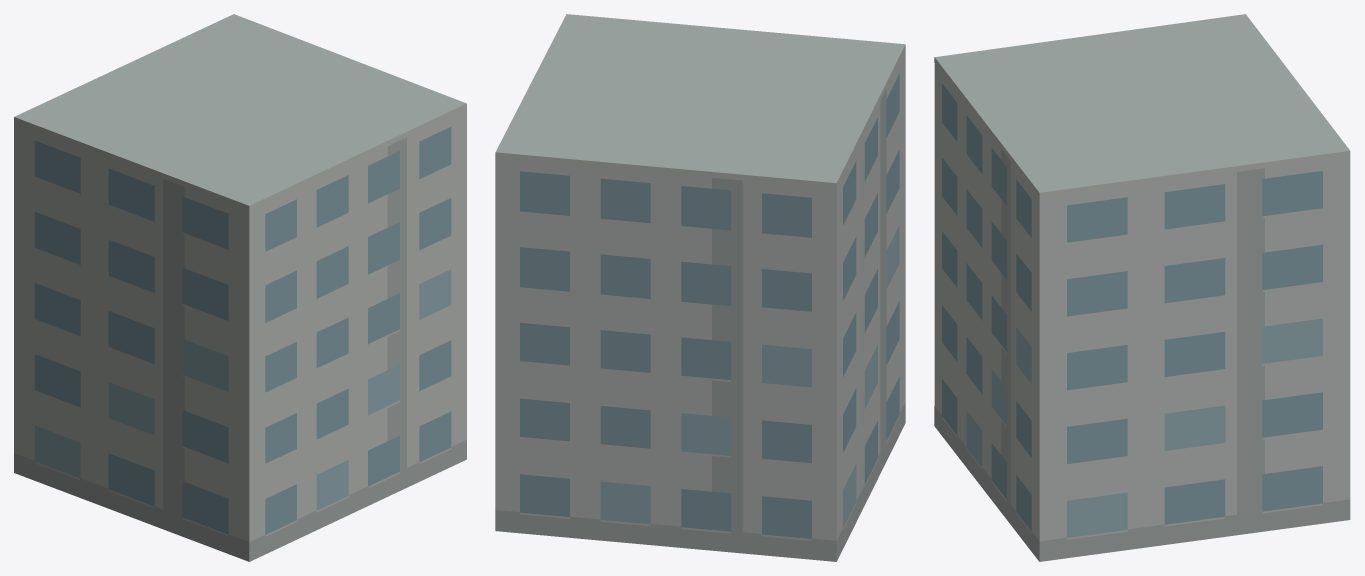
The model's file is survey-upis-32942156.glb.
The picture shows the model from 3 angles, left to right: view 1: azimuth 30°, elevation 25°; view 2: azimuth 150°, elevation 25°; view 3: azimuth 270°, elevation 25°; orthographic projection. The views are drawn at different scales.
Parts seen in each view (by area): view 1: survey-upis-32942156.tmp; view 2: survey-upis-32942156.tmp; view 3: survey-upis-32942156.tmp.
Part boxes in pixels (<box>): survey-upis-32942156.tmp: <box>14,14,466,561</box>; survey-upis-32942156.tmp: <box>495,14,905,561</box>; survey-upis-32942156.tmp: <box>934,14,1350,561</box>.
Bounding box in the file's own units: 16.11 × 15.5 × 15.83.
